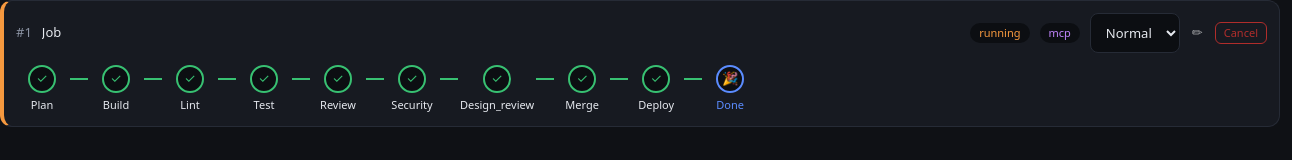
Test: JobCard dependency-picker candidate badges › shows the unverified warn badge for an already-satisfied candidate and a plain badge for a normal done candidate
Click the button titled "Edit dependencies".
click(1197, 33)  # box left=1190, top=23, right=1205, bottom=43
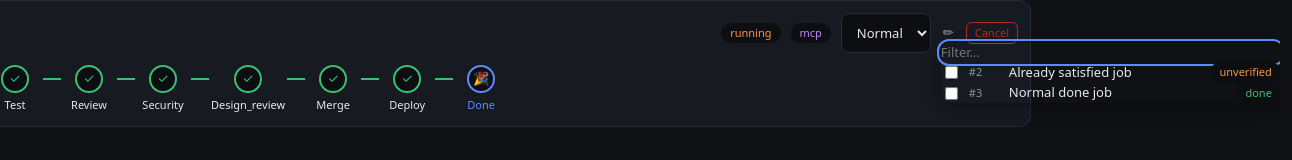
Now the text "Already satisfied job" is shown, box left=1009, top=63, right=1132, bottom=81
Now the text with class "badge" reads "unverified", box left=1220, top=64, right=1272, bottom=79
Now the text with class "badge" next to "Normal done job" reads "done", box left=1245, top=85, right=1272, bottom=100
